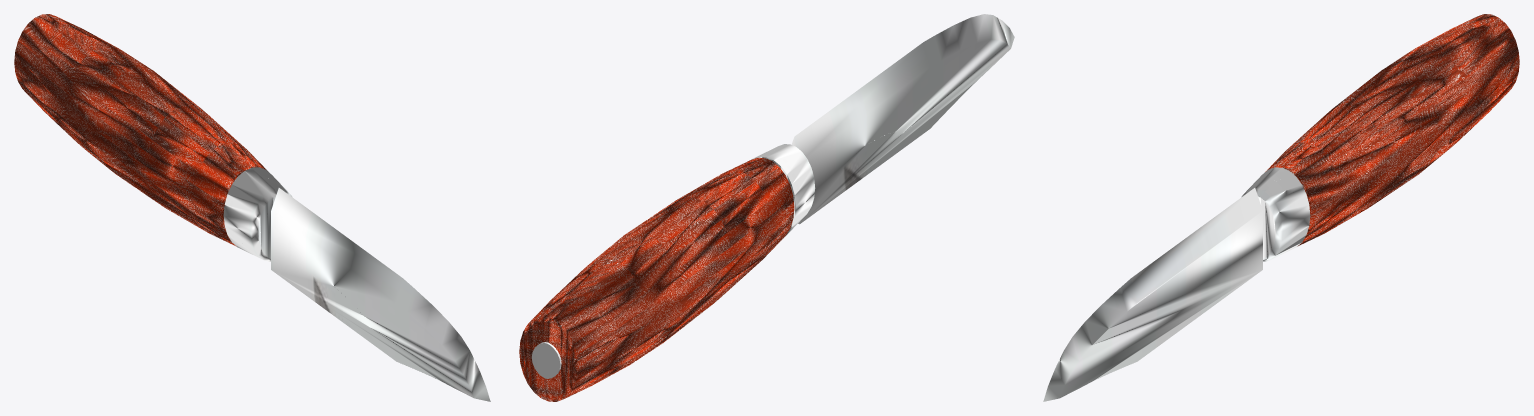
File: model_align.obj
3 views of the same model, side by side, from view 1: azimuth 30°, elevation 25°; view 2: azimuth 150°, elevation 25°; view 3: azimuth 330°, elevation 25° (orthographic). The views are drawn at different scales.
Bounding box in the file's own units: 0.0223 × 0.0306 × 0.2299.
